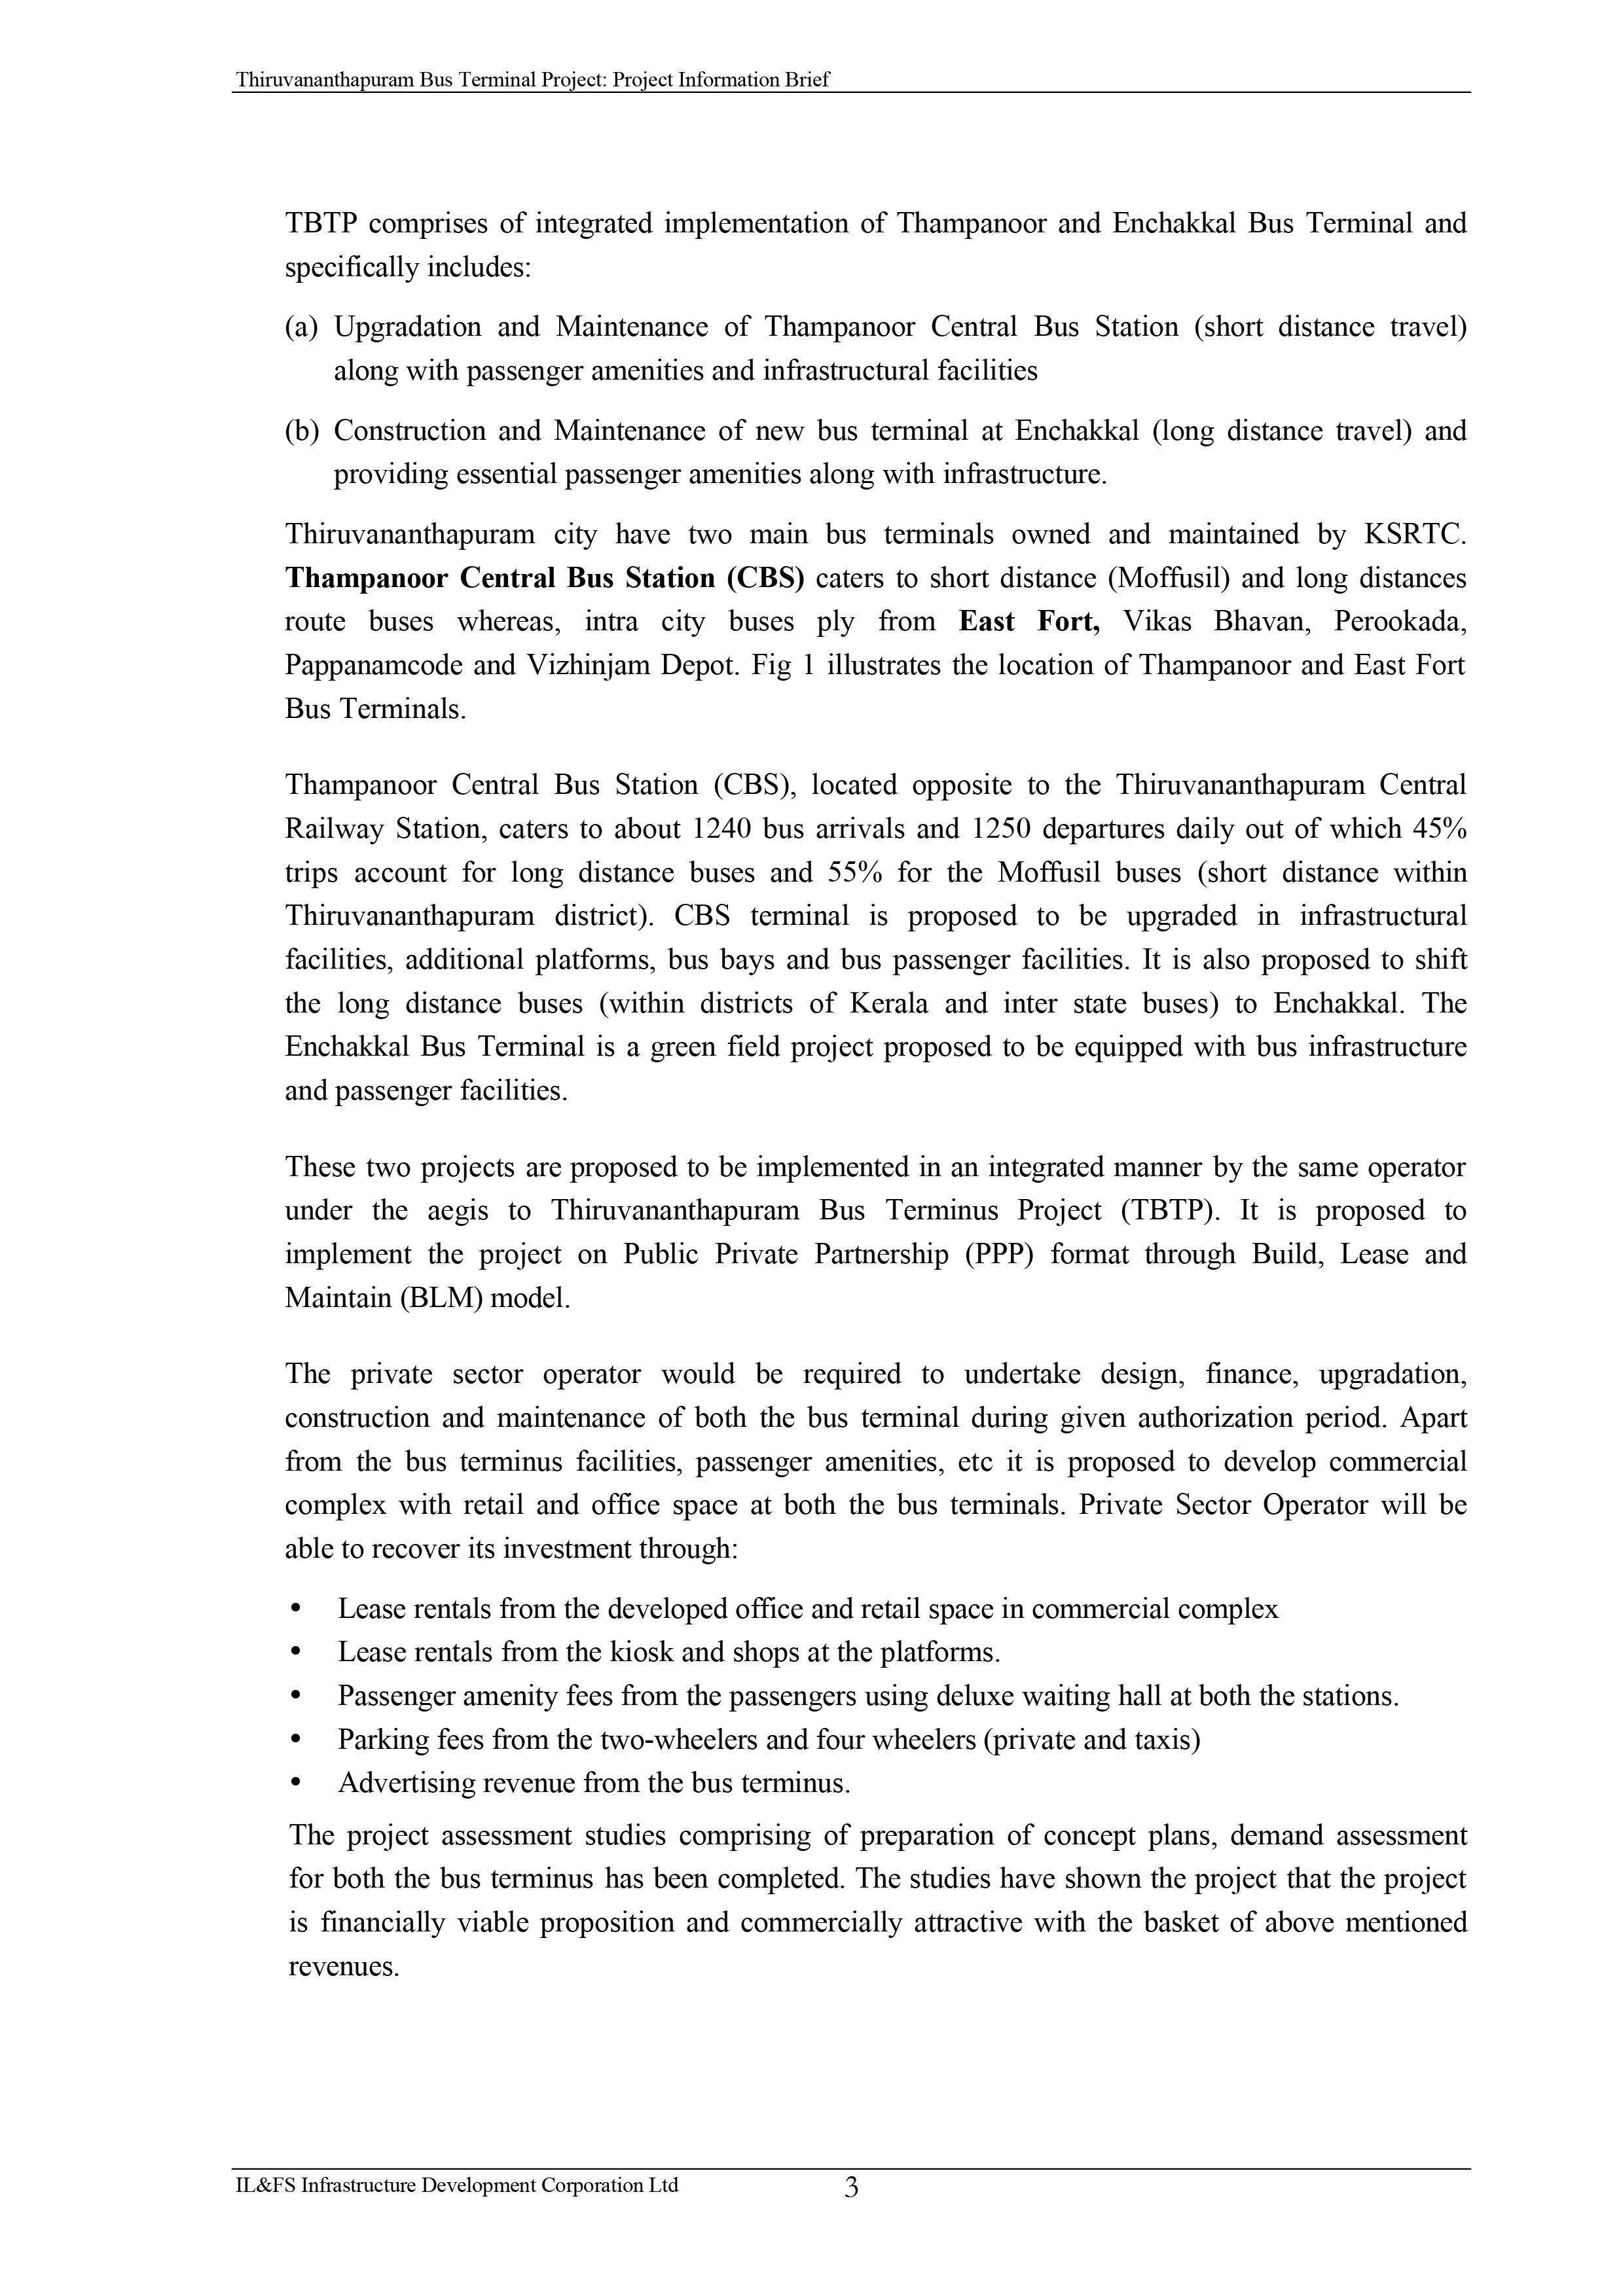list: (274, 295, 1512, 500), (285, 1594, 1414, 1810)
text: (274, 767, 1474, 1122), (274, 1352, 1474, 1576), (267, 521, 1477, 727), (270, 1813, 1474, 2001), (278, 1150, 1481, 1320), (270, 198, 1495, 298)
